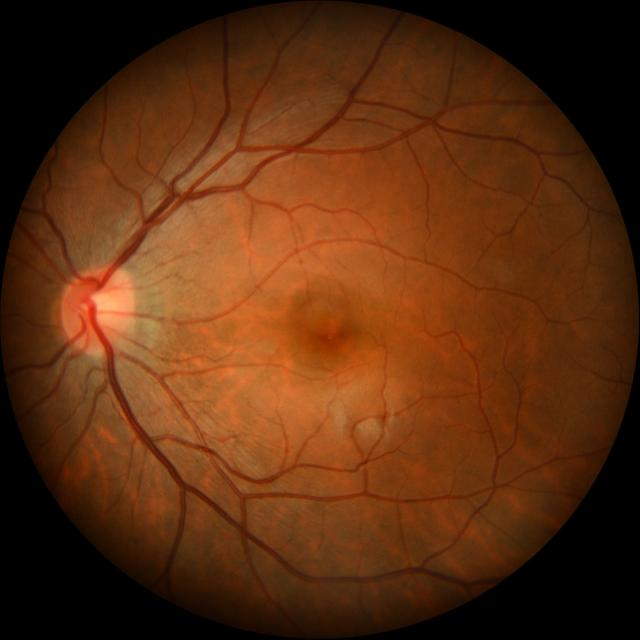OC: (88, 292, 114, 322)
OD: (59, 268, 132, 352)
